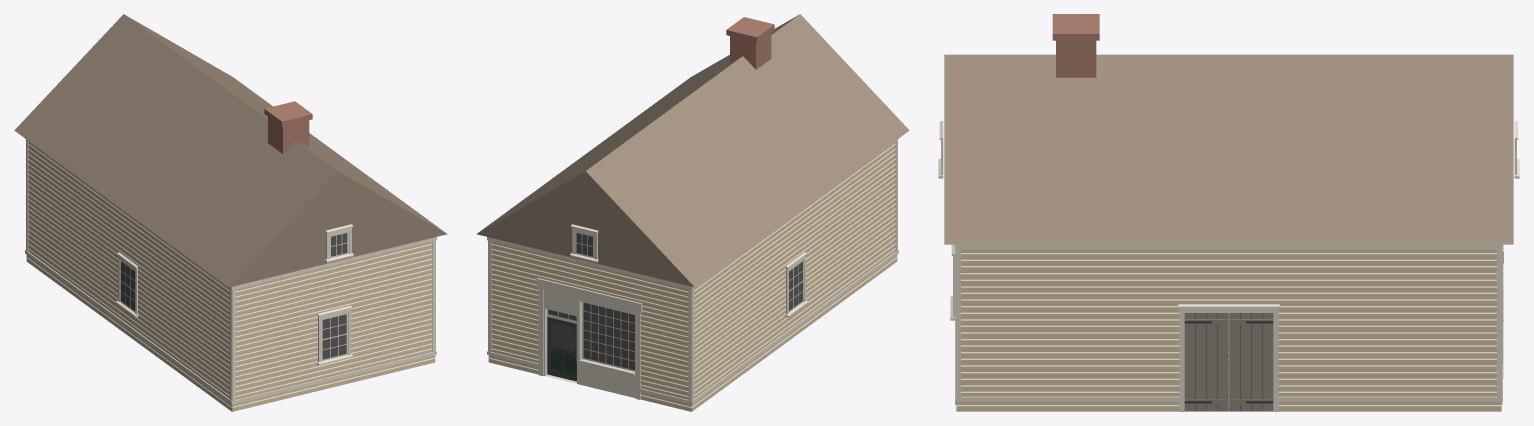
Rendered from recon_1835_core_c2_036__inferred_1835.glb.
3 views of the same model, side by side, from view 1: azimuth 30°, elevation 25°; view 2: azimuth 150°, elevation 25°; view 3: azimuth 270°, elevation 25° (orthographic). The views are drawn at different scales.
Visible parts, largest first — view 1: recon_1835_core_c2_036__inferred_1835; view 2: recon_1835_core_c2_036__inferred_1835; view 3: recon_1835_core_c2_036__inferred_1835.
Part boxes in pixels (x1,y1,x2,y2): recon_1835_core_c2_036__inferred_1835: [14, 14, 447, 411]; recon_1835_core_c2_036__inferred_1835: [476, 14, 909, 411]; recon_1835_core_c2_036__inferred_1835: [938, 14, 1519, 411].
Size of the model in its own units: 6.99 by 7.41 by 12.13.
